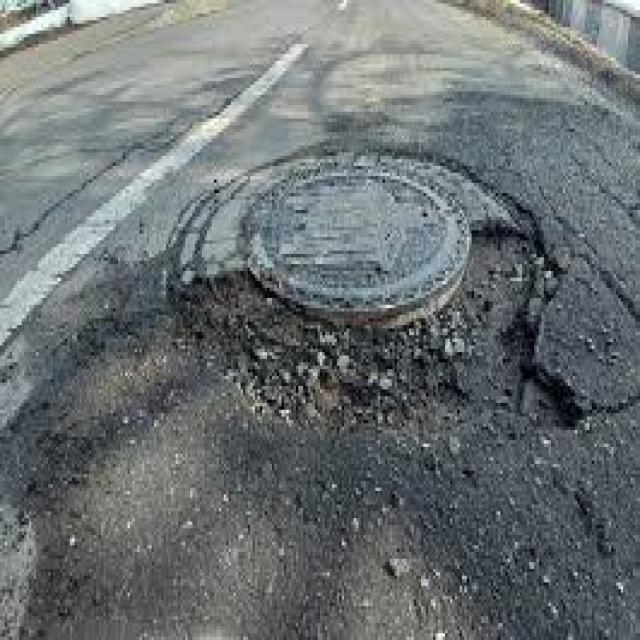manhole: (241, 168, 470, 313)
